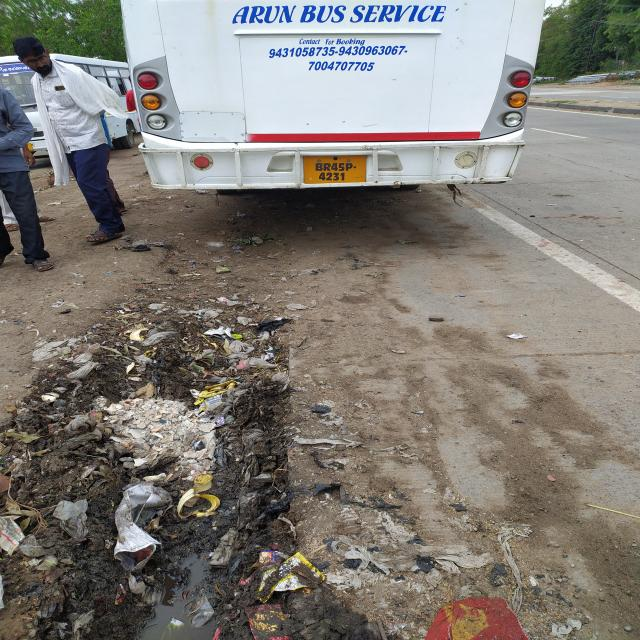Bus: (122, 0, 577, 218)
